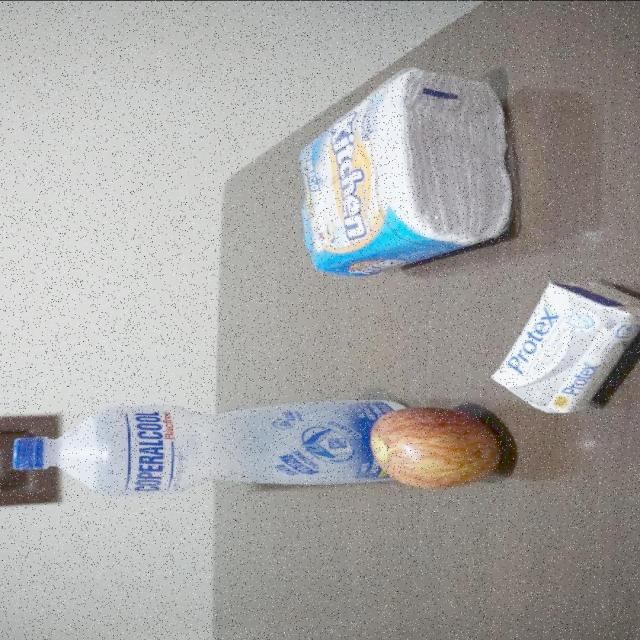AlcoholBottle: (9, 392, 396, 499)
Apple: (366, 403, 506, 497)
Napkin: (300, 62, 505, 280)
Soap: (490, 277, 640, 412)
